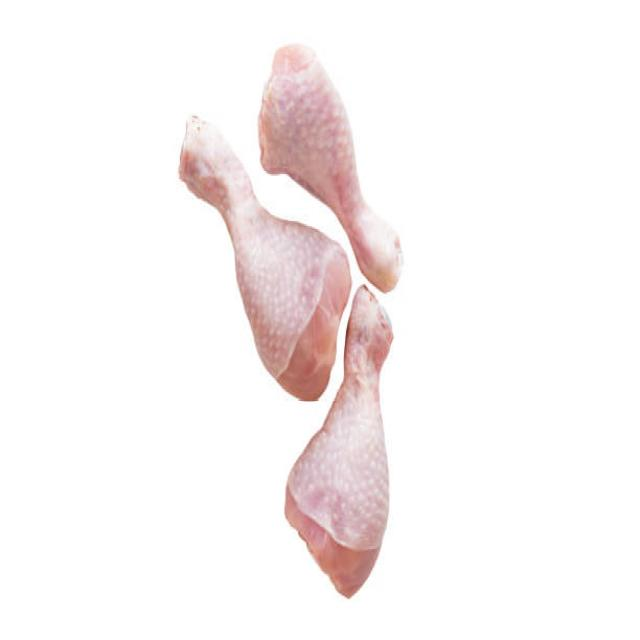Chicken Thigh: (168, 123, 344, 382), (256, 46, 423, 273), (288, 320, 404, 594)
